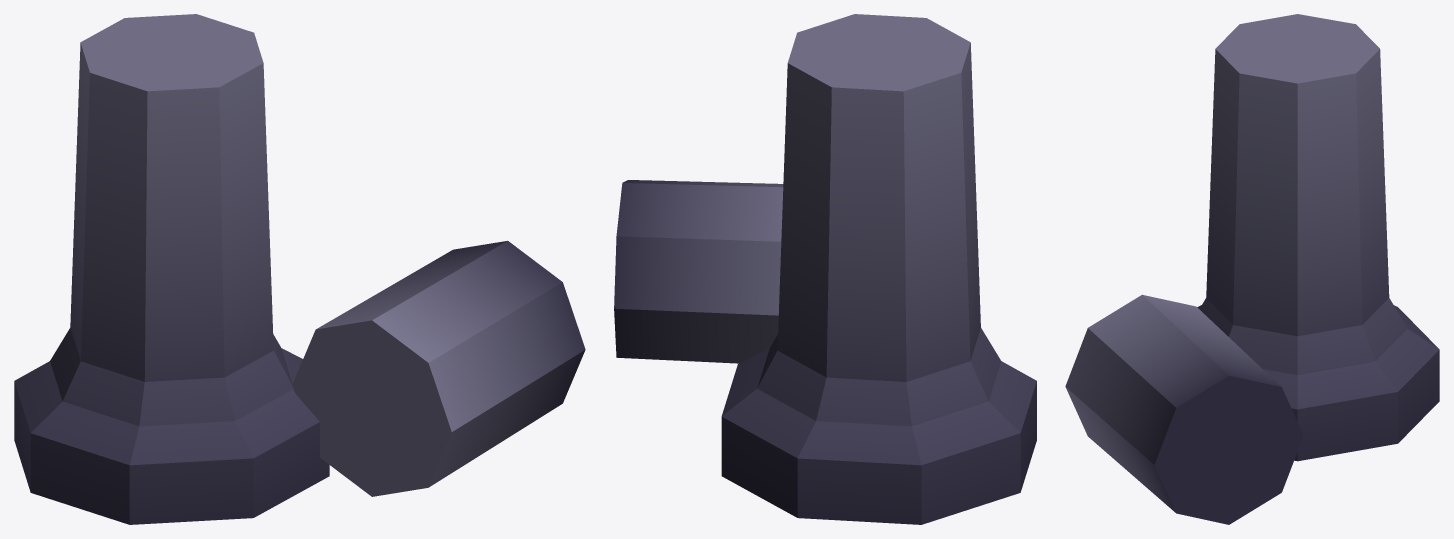
File: dun_pillar_broken.glb
3 renders of one model, left to right at view 1: azimuth 30°, elevation 25°; view 2: azimuth 150°, elevation 25°; view 3: azimuth 270°, elevation 25°, orthographic. The views are drawn at different scales.
Visible parts, largest first — view 1: dun_pillar_broken; view 2: dun_pillar_broken; view 3: dun_pillar_broken.
Boxes of the visible parts, bbox=[...] form: dun_pillar_broken: bbox=[14, 14, 585, 524]; dun_pillar_broken: bbox=[614, 14, 1036, 524]; dun_pillar_broken: bbox=[1065, 14, 1439, 524].
Bounding box in the file's own units: 2.07 × 1.7 × 1.64.
